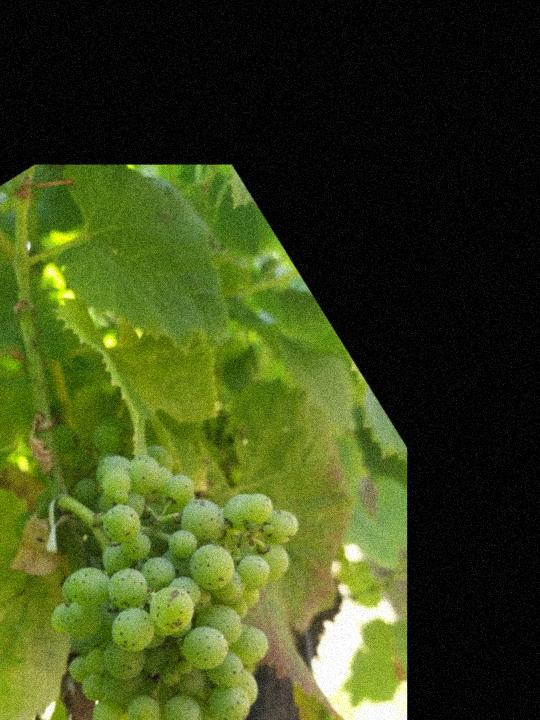grape: (0, 386, 382, 720)
